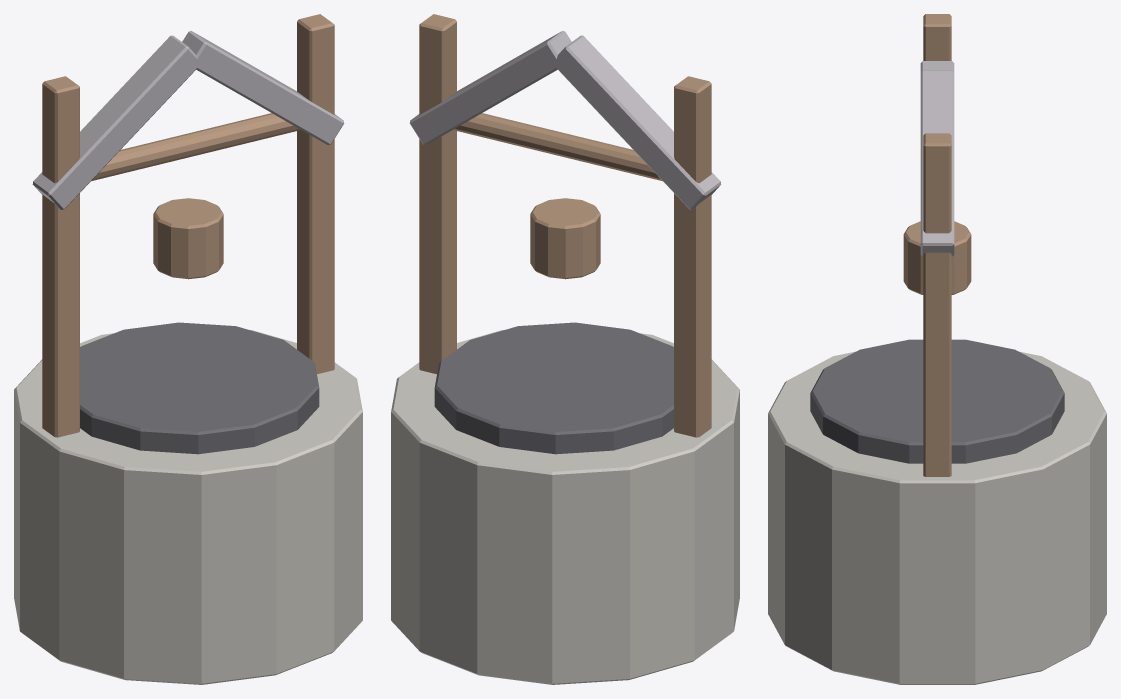
File: SM_Well.fbx
3 renders of one model, left to right at view 1: azimuth 30°, elevation 25°; view 2: azimuth 150°, elevation 25°; view 3: azimuth 270°, elevation 25°, orthographic. The views are drawn at different scales.
Visible parts, largest first — view 1: Well; view 2: Well; view 3: Well.
Boxes of the visible parts, box(x1,y1,x2,y2) form: Well: box(14, 14, 362, 684); Well: box(391, 14, 739, 684); Well: box(768, 14, 1106, 684).
Bounding box in the file's own units: 117 × 215 × 120.
